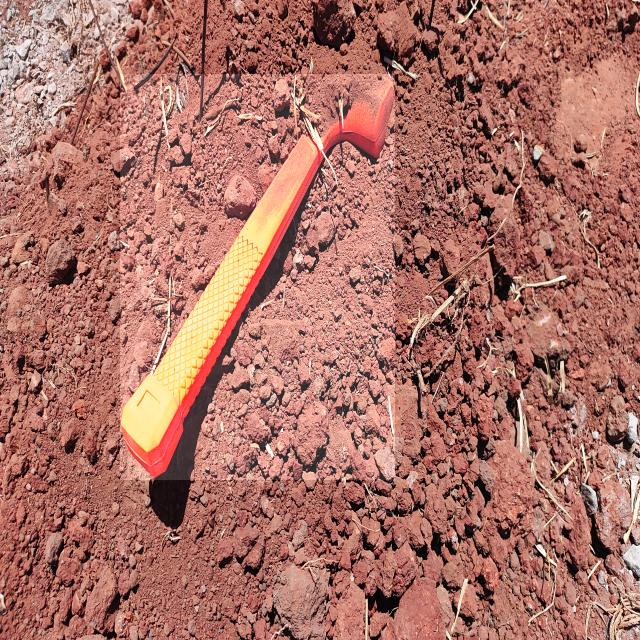Orange_hammer: (120, 74, 395, 480)
